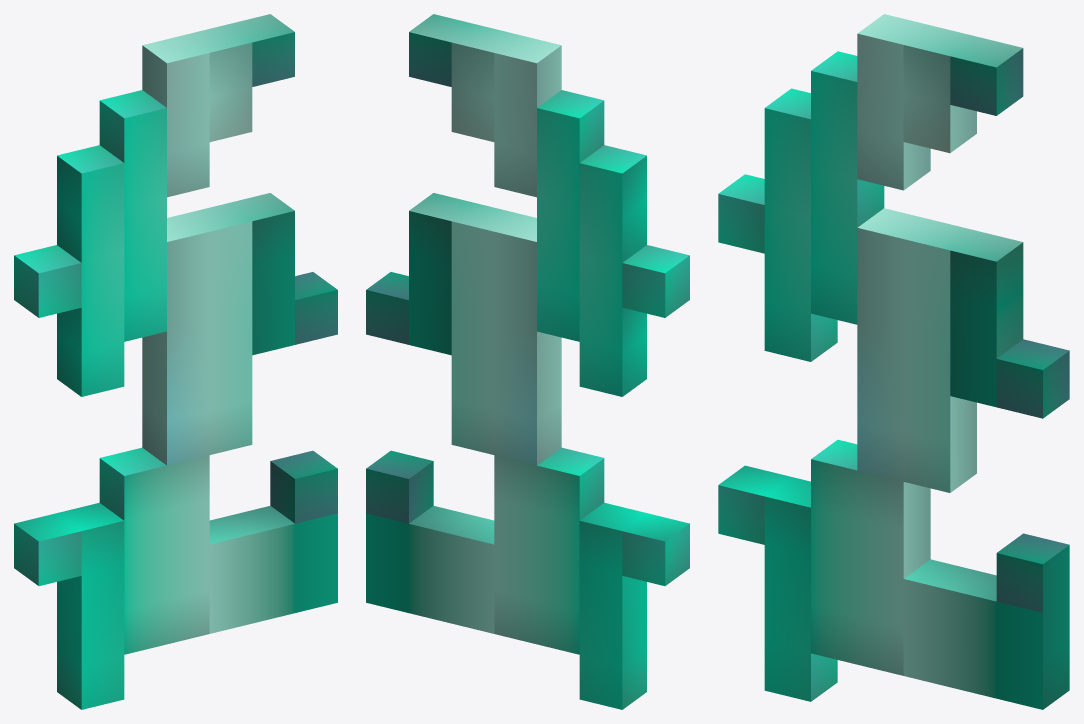
File: BillboardModule_ChineseSymbol_H_00.fbx
3 views of the same model, side by side, from view 1: azimuth 30°, elevation 25°; view 2: azimuth 150°, elevation 25°; view 3: azimuth 330°, elevation 25° (orthographic). The views are drawn at different scales.
Visible parts, largest first — view 1: BillboardModule_ChineseSymbol_H_00; view 2: BillboardModule_ChineseSymbol_H_00; view 3: BillboardModule_ChineseSymbol_H_00.
Part boxes in pixels (x1,y1,x2,y2): BillboardModule_ChineseSymbol_H_00: (14,14,337,709); BillboardModule_ChineseSymbol_H_00: (366,14,689,709); BillboardModule_ChineseSymbol_H_00: (718,14,1069,709).
Bounding box in the file's own units: 35 × 70 × 5.
